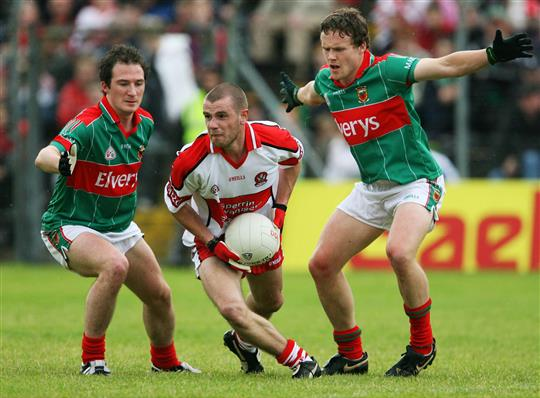ball: (221, 214, 283, 265)
player: (304, 5, 463, 355), (41, 41, 180, 362), (171, 74, 315, 380)
